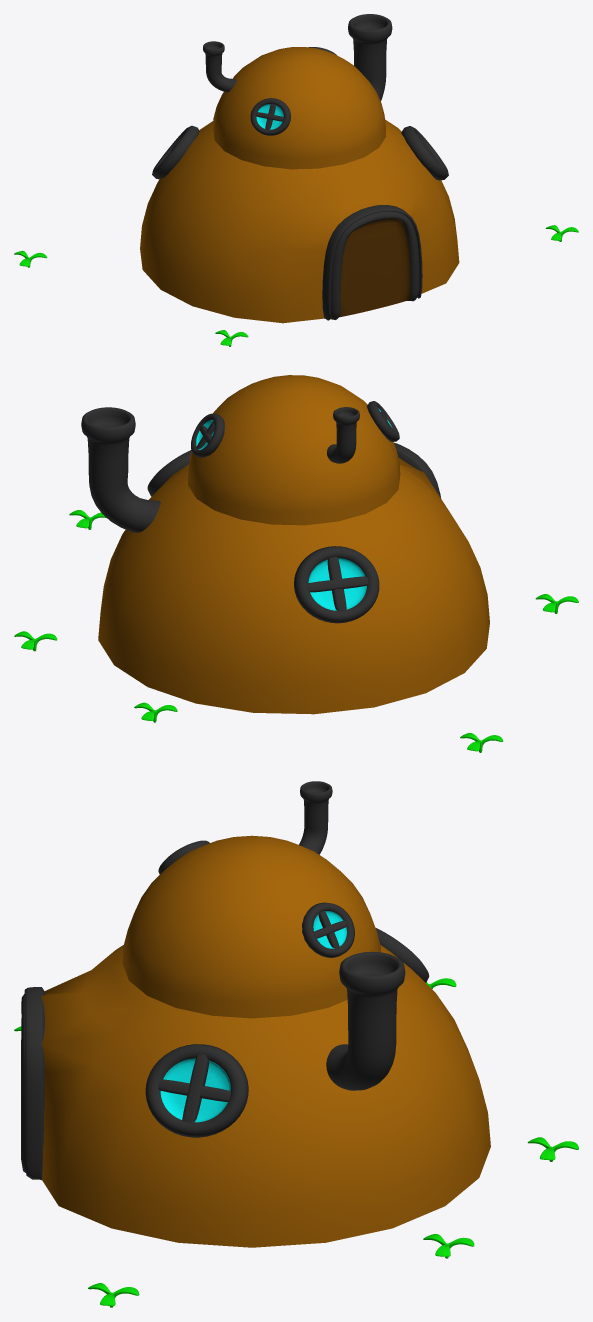
File: House tier 2.fbx
3 renders of one model, top to bottom at view 1: azimuth 30°, elevation 25°; view 2: azimuth 150°, elevation 25°; view 3: azimuth 270°, elevation 25°, orthographic. The views are drawn at different scales.
Visible parts, largest first — view 1: polySurface13; view 2: polySurface13; view 3: polySurface13.
Boxes of the visible parts, x1,y1,x2,y2 form: polySurface13: [14, 14, 578, 346]; polySurface13: [14, 375, 578, 752]; polySurface13: [14, 781, 578, 1307].
Size of the model in its own units: 5.73 by 2.57 by 4.14.
